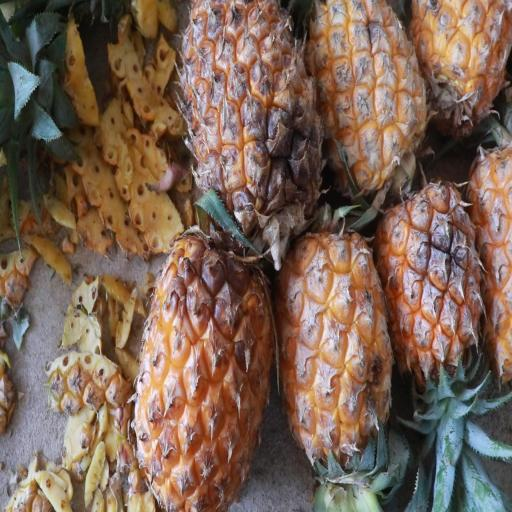Pineapple - v8 v1: (129, 236, 278, 505), (173, 6, 331, 250), (276, 216, 398, 464), (306, 0, 430, 205), (371, 195, 490, 399), (412, 0, 512, 148)
